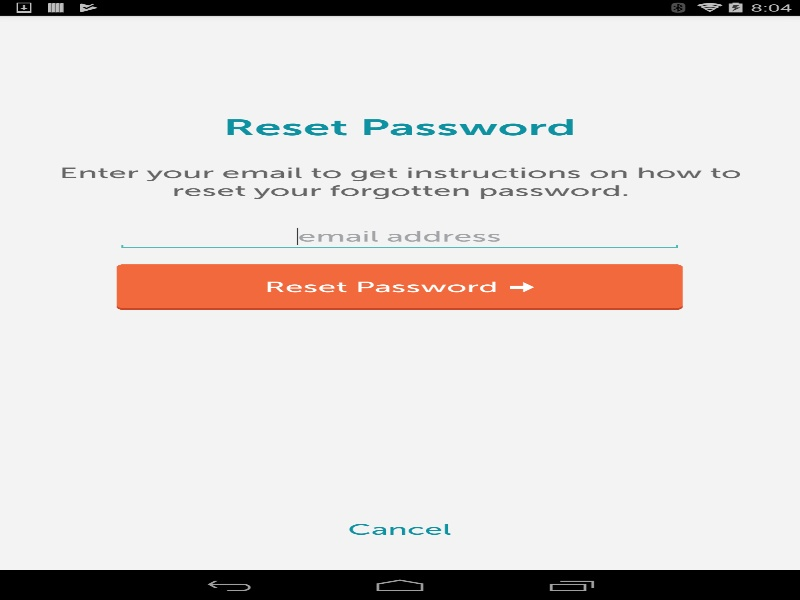Input: (116, 223, 682, 250)
